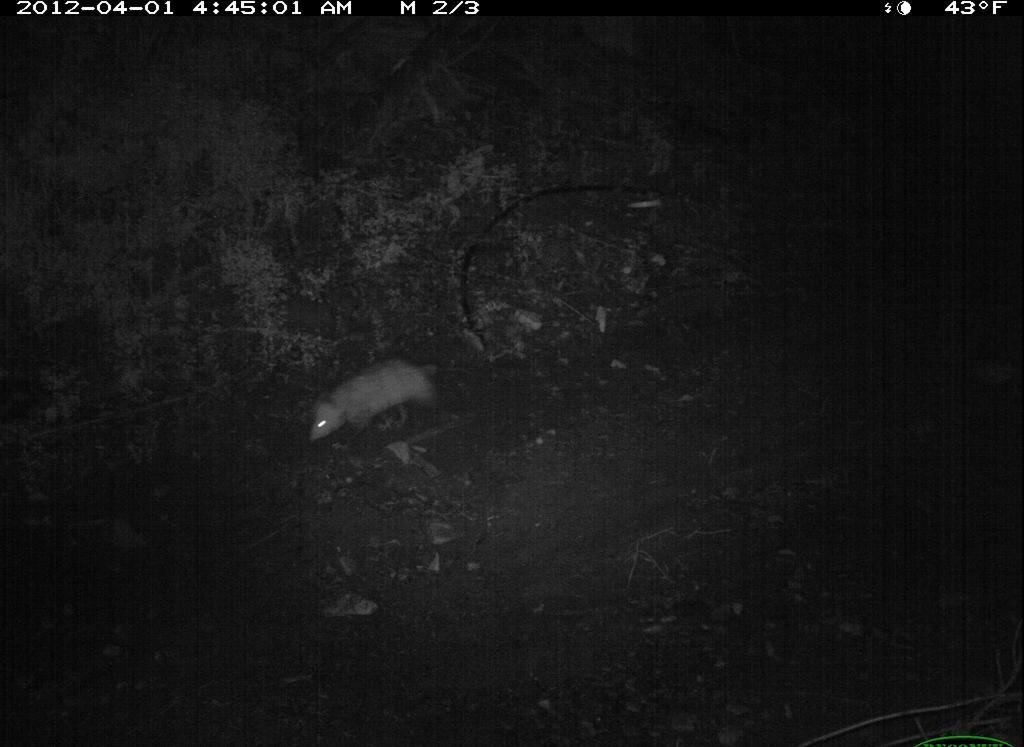opossum: (296, 344, 488, 448)
